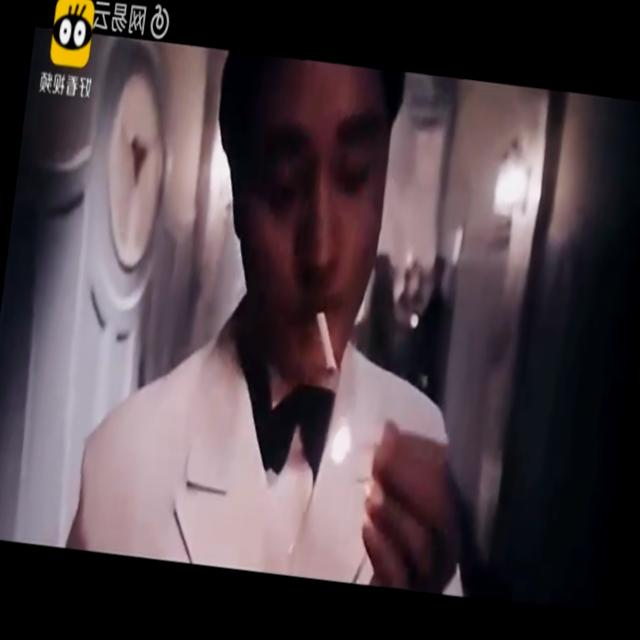smoke: (310, 304, 344, 377)
